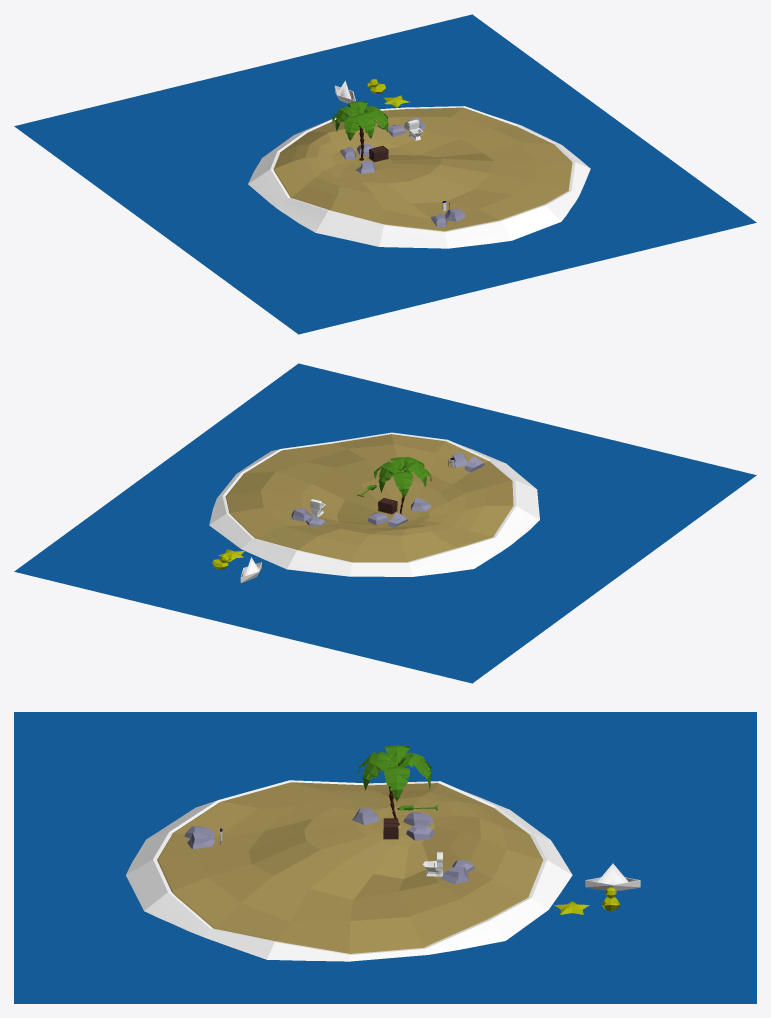
The model's file is Island_FBX_Materiales.FBX.
3 views of the same model, one above another, from view 1: azimuth 30°, elevation 25°; view 2: azimuth 150°, elevation 25°; view 3: azimuth 270°, elevation 25° (orthographic). The views are drawn at different scales.
Visible parts, largest first — view 1: Agua, Isla, Espuma; view 2: Agua, Isla, Espuma; view 3: Agua, Isla, Espuma, Paper Boat, Palm_Hoja1.
Boxes of the visible parts, x1,y1,x2,y2 form: Agua: [14, 14, 756, 334]; Isla: [273, 107, 572, 231]; Espuma: [248, 106, 590, 248]; Agua: [14, 363, 756, 683]; Isla: [225, 434, 513, 562]; Espuma: [209, 432, 539, 576]; Agua: [14, 712, 756, 1003]; Isla: [157, 782, 543, 953]; Espuma: [126, 780, 572, 961]; Paper Boat: [585, 863, 640, 890]; Palm_Hoja1: [384, 766, 409, 801].
Bounding box in the file's own units: 992 × 165 × 1067.
